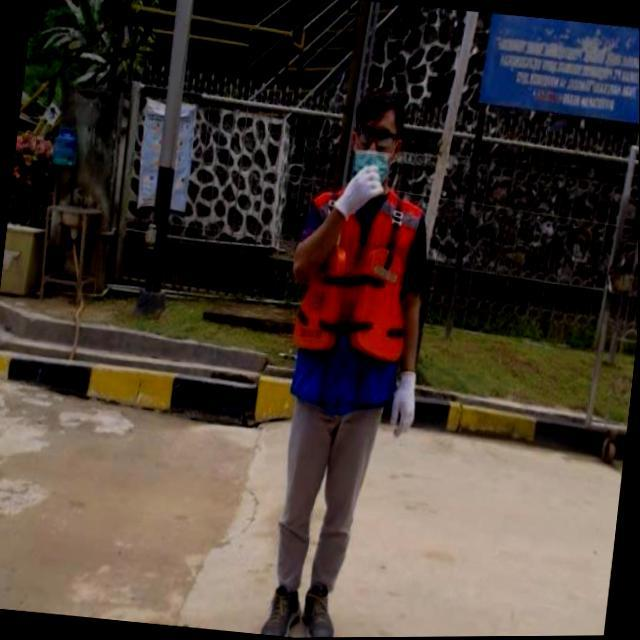goggles_on: (354, 120, 397, 154)
